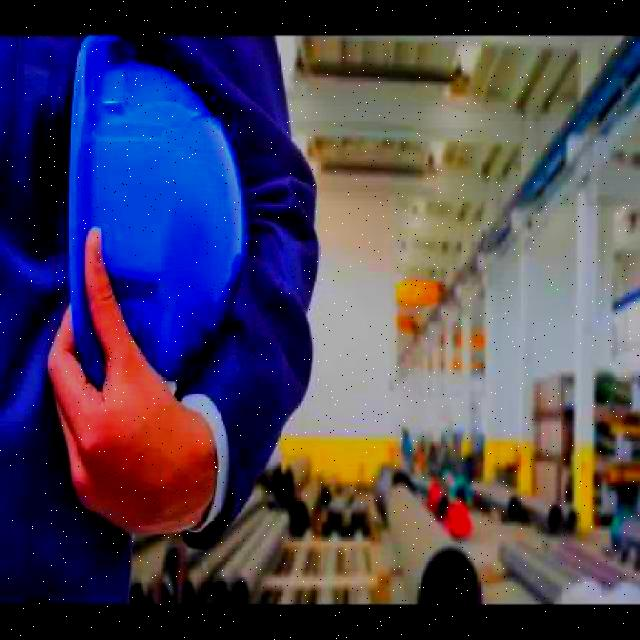Helmet: (67, 32, 250, 390)
